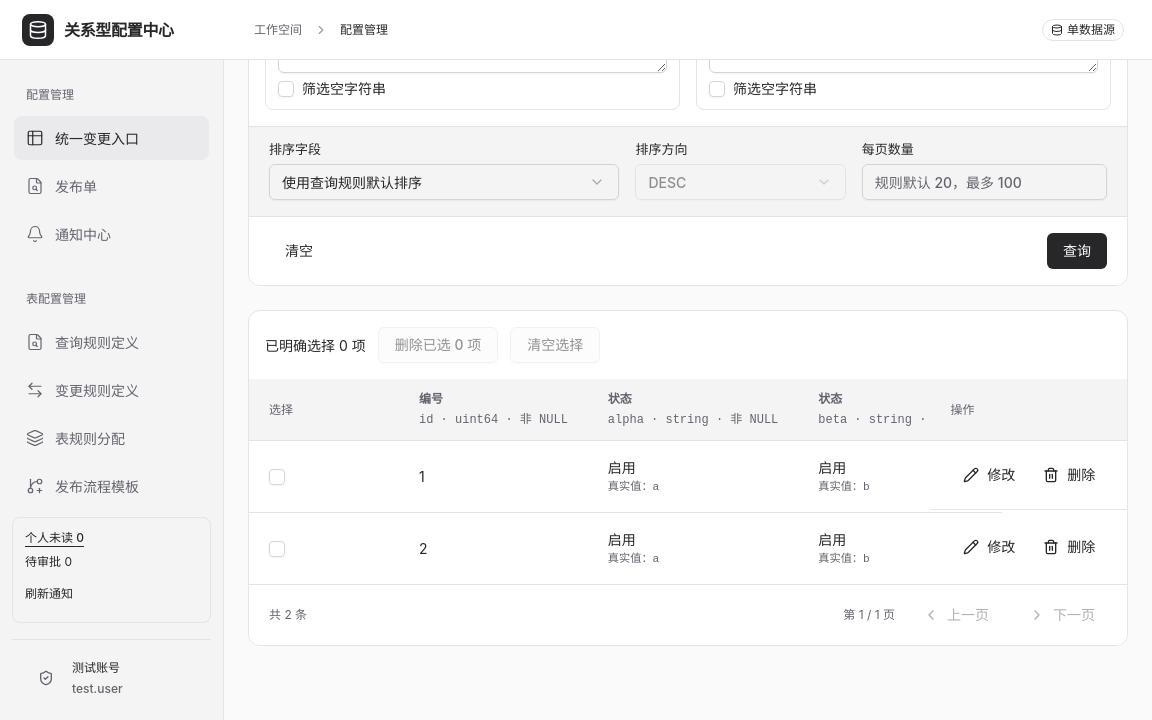
Scenario: 统一变更入口页面 › 按当前字段配置隐藏和排序列表列，并用真实字段和值消除重复标签歧义
(page scrolled)
expect the text "启用" is shown 4 times: met, box [608,459,636,476]; [818,459,846,476]; [608,531,636,548]; [818,531,846,548]
expect the column heading "internal" is not shown: met
Click the checkbox named "选择记录 1".
click(277, 477)  # box [269,469,285,485]
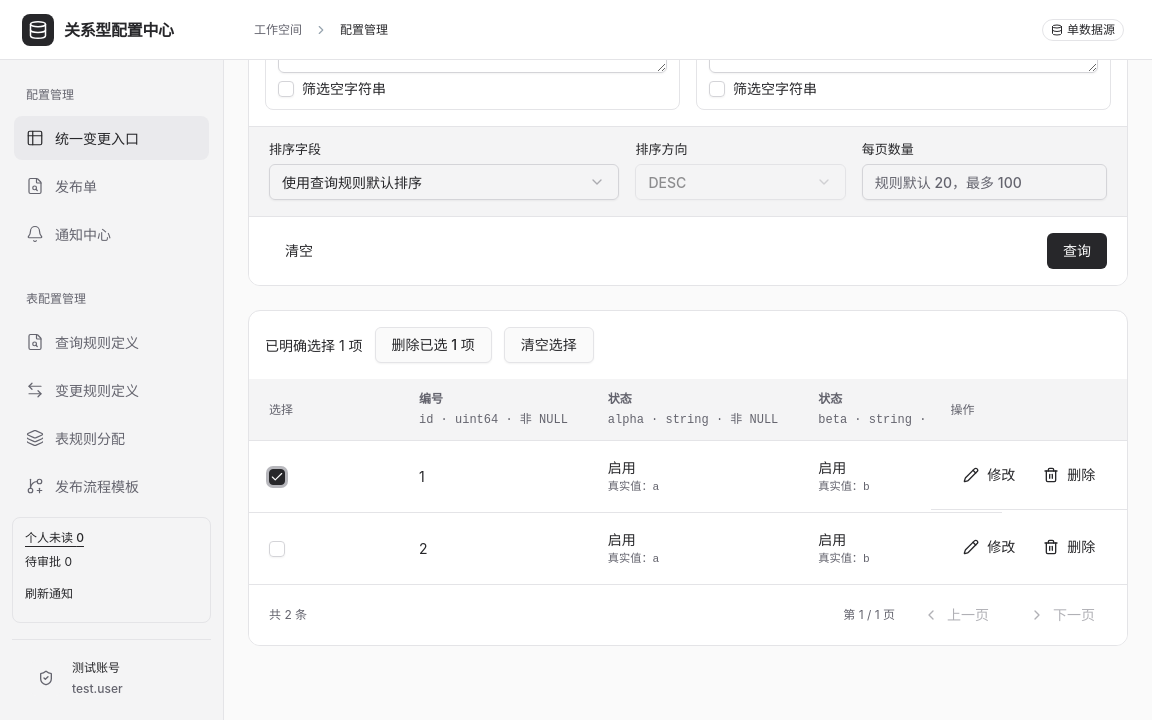
Click the button "删除已选 1 项".
click(433, 345)  # box [375,327,492,363]
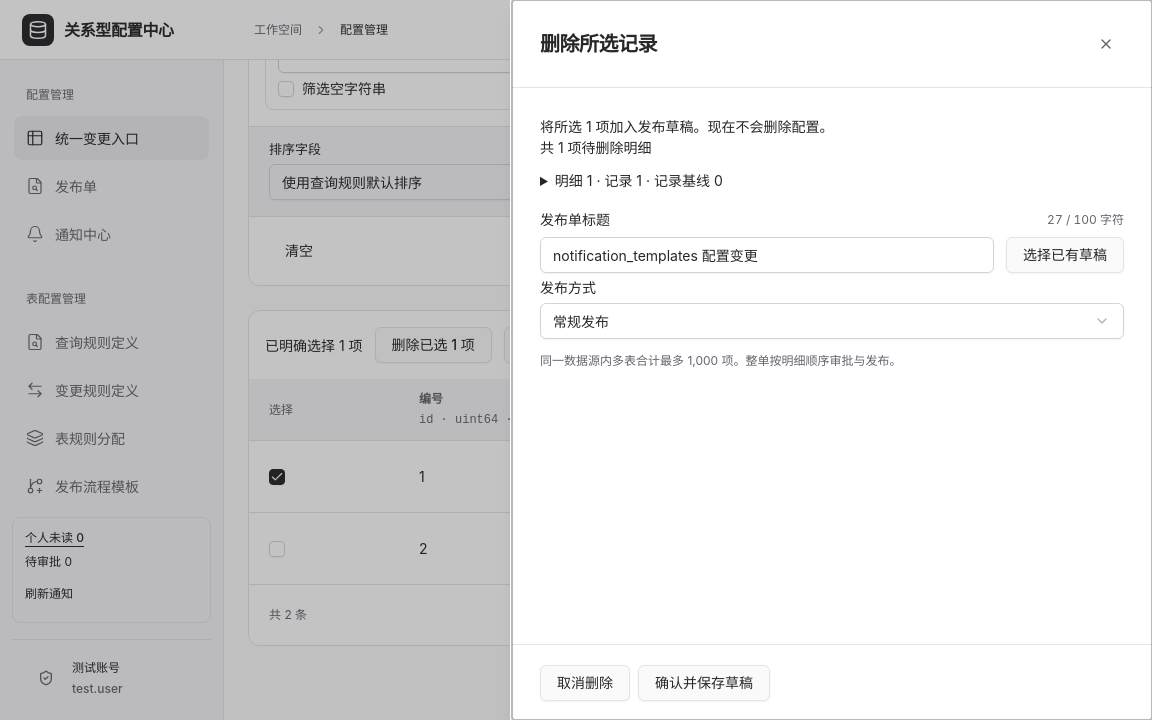
Click the heading "明细 1 · 记录 1 · 记录基线 0".
click(639, 180)  # box [555,172,723,189]
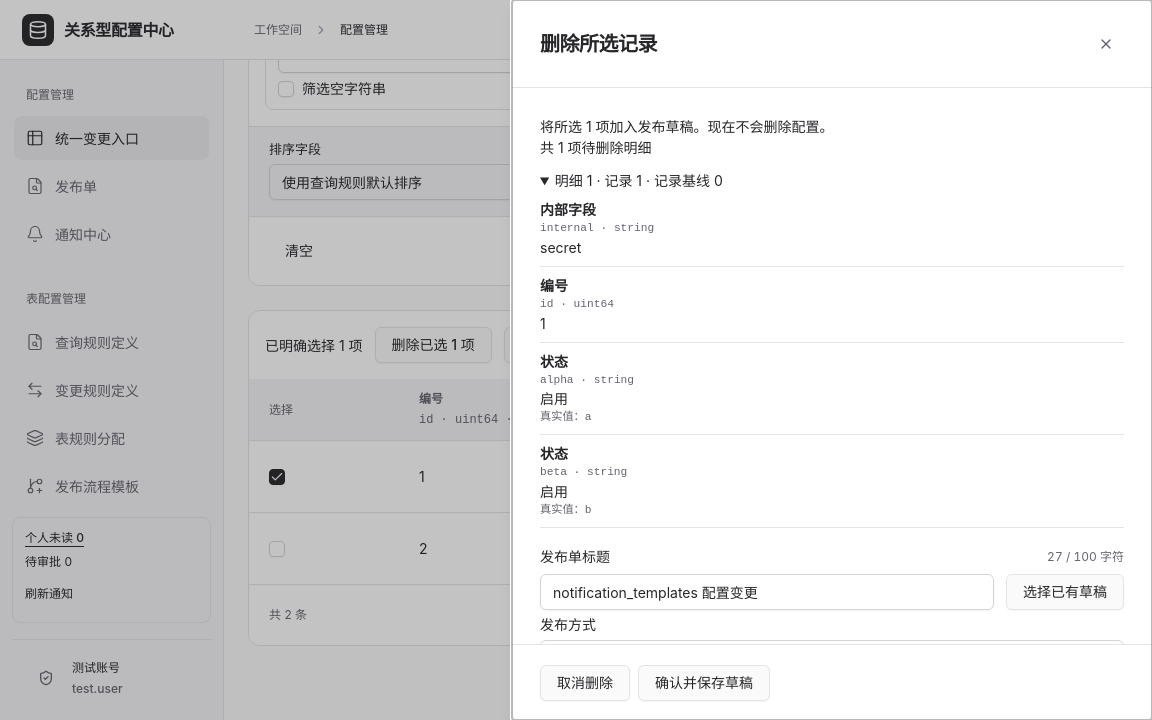
expect the text "secret" is shown: met, box [540,239,581,256]
